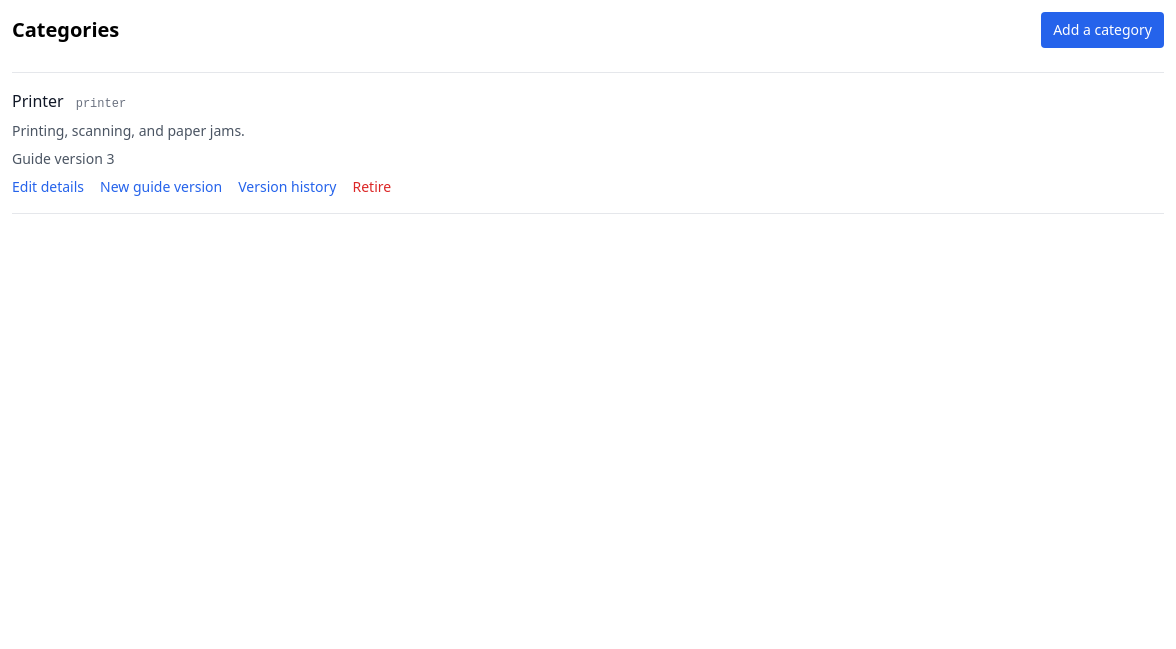
Test: CategoryListPage — slug rules reported before the change (FR-007, edge case) › CL-009: a malformed machine name is reported on that field
This screenshot has width=1176, height=649.
Expected: the list item "Printer" is shown, [12, 90, 64, 112]
Click the button "Add a category": (1103, 30) [1041, 12, 1164, 48]
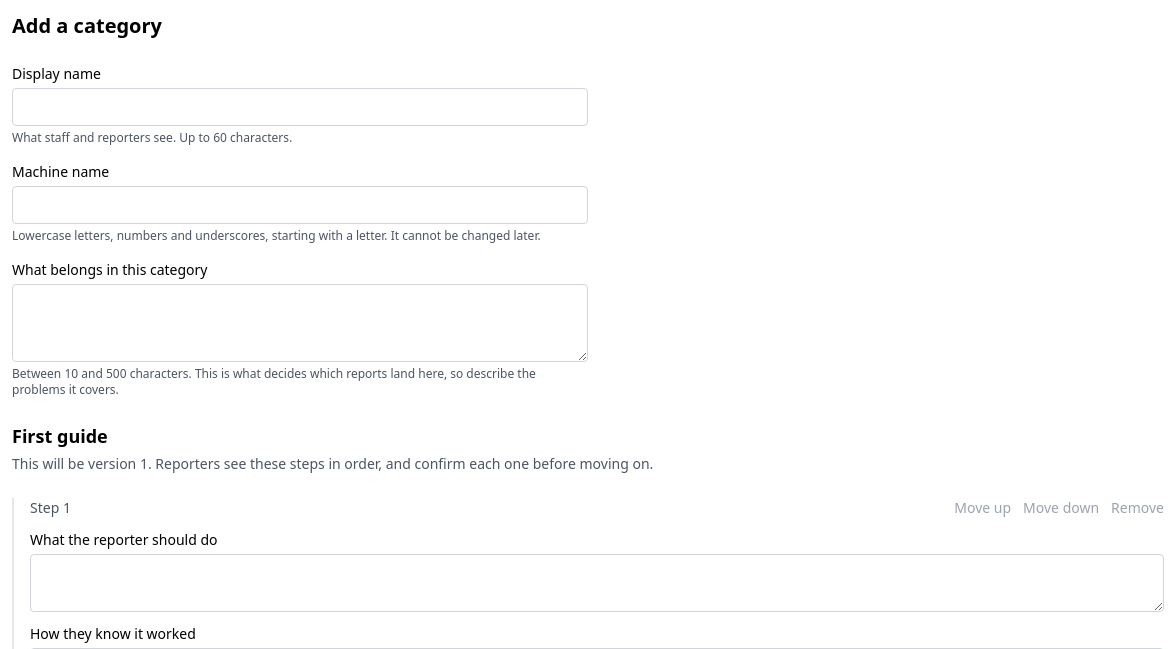
Expected: the heading "Add a category" is shown, [12, 12, 162, 39]
In the field labelled "Machine name": (300, 205) [12, 186, 588, 224], type "Not A Slug"
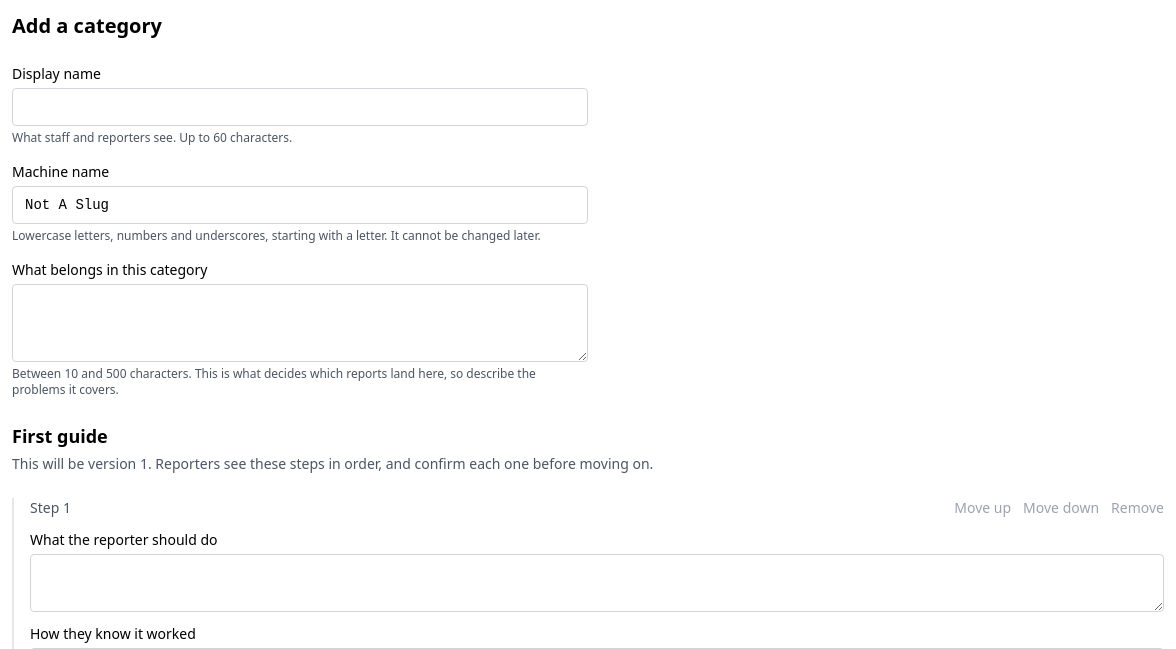
Leave the field labelled "Machine name", box [12, 186, 588, 224]
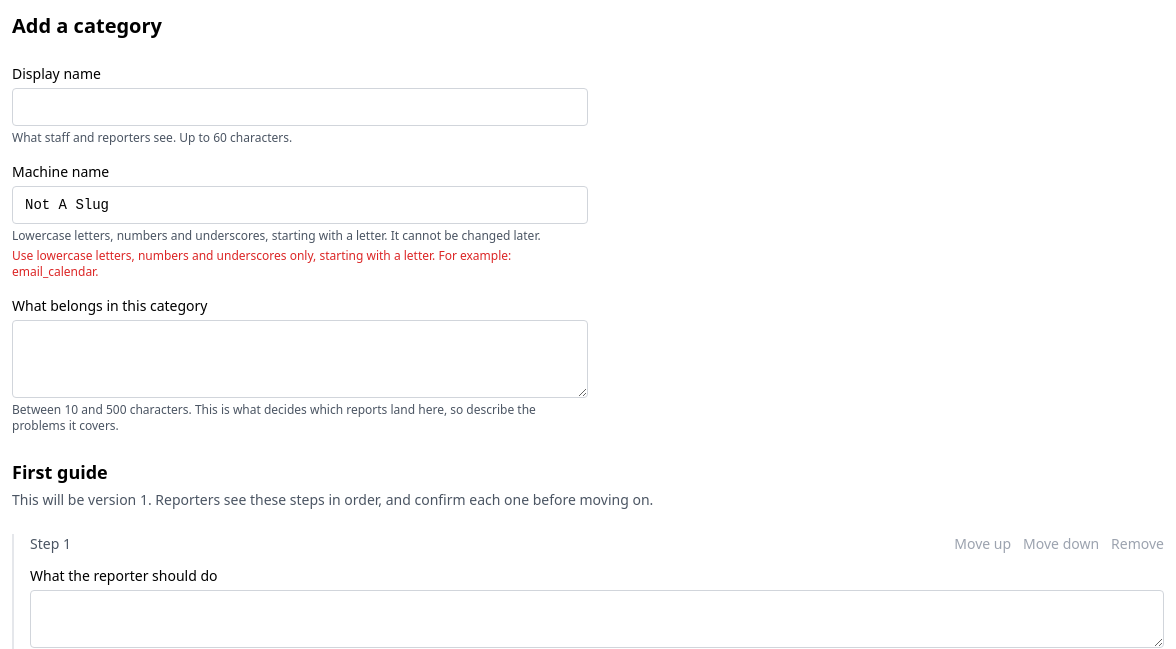
Expected: the message shows "lowercase letters, numbers and underscores", [12, 247, 511, 280]
